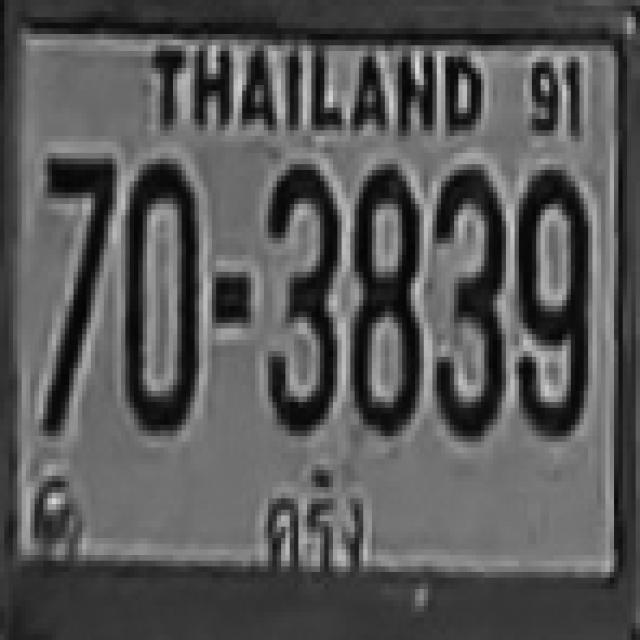0: (121, 156, 195, 428)
3: (264, 158, 337, 430), (432, 162, 502, 434)
7: (44, 153, 112, 419), (44, 150, 112, 382), (44, 150, 112, 337), (44, 153, 112, 317)
8: (350, 162, 415, 428)
9: (514, 164, 584, 430)
Trang: (243, 452, 383, 587)
